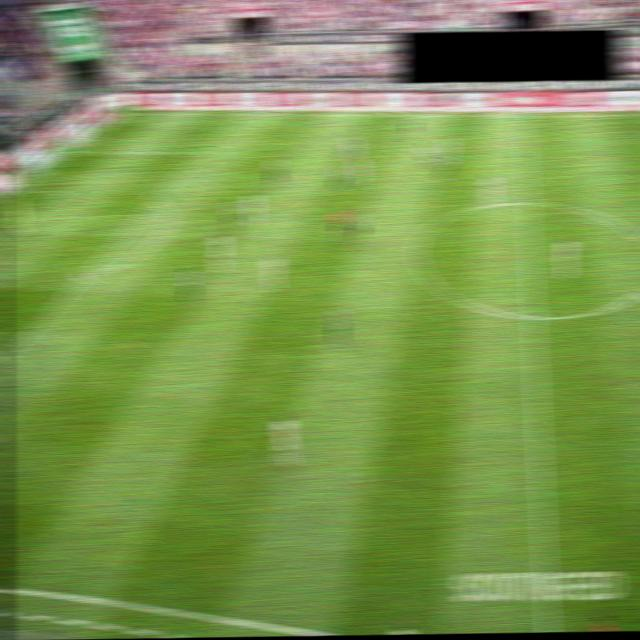bigarea_top_inner: (191, 146, 211, 157)
bigarea_top_outter: (63, 144, 83, 156)
bottom_arc_area_intersection: (74, 271, 94, 282)
corner: (117, 107, 136, 118)
halfcircle_bottom: (523, 311, 543, 322)
halfcircle_top: (519, 197, 539, 208)
midline_top_intersection: (514, 109, 534, 121)
smallarea_top_inner: (55, 185, 75, 197)
smallarea_top_outter: (9, 184, 28, 195)
top_arc_area_intersection: (147, 193, 168, 204)
